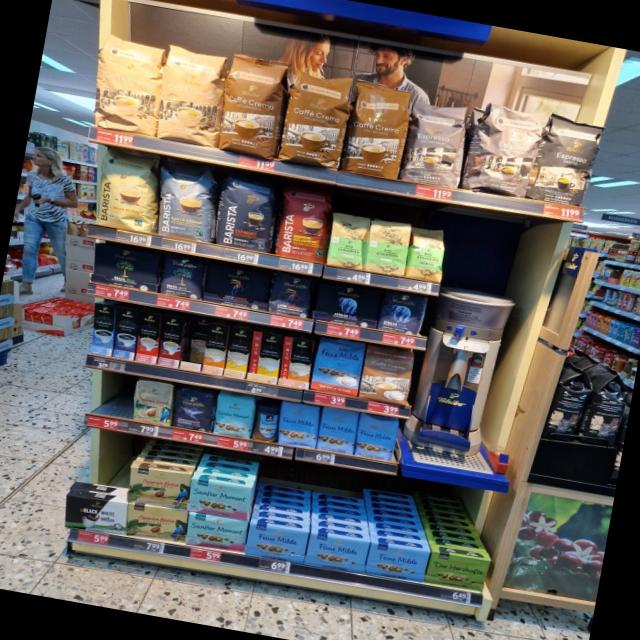AB Bohne: (376, 289, 431, 338)
AB Gemahlen: (311, 279, 384, 329)
Athiopien Bohne: (405, 225, 448, 283)
Athiopien Gemahlen: (364, 218, 414, 278), (323, 213, 370, 272)
BM Bohne: (159, 251, 209, 299)
BM Gemahlen: (90, 241, 166, 293)
BW Gemahlen: (63, 493, 128, 535)
Barista CB: (92, 147, 165, 235)
Barista CC: (153, 162, 223, 244)
Barista Espresso: (212, 173, 284, 256)
Barista Kolumbien: (272, 184, 336, 264)
C Fino Bohne: (169, 383, 218, 433)
CC Mild: (89, 33, 169, 138), (155, 42, 232, 149)
CC Vollmundig: (356, 344, 418, 407)
CC Vollmundig 36 Pads: (273, 64, 358, 172), (216, 51, 296, 162), (339, 77, 417, 181)
Colombia BB Bohne: (128, 377, 176, 426)
Colombia BB Gemahlen: (125, 466, 193, 510), (125, 502, 190, 542)
Empty Shelf: (86, 370, 136, 419)
Espresso Aromatisch: (460, 97, 546, 201), (398, 98, 471, 192)
Espresso Kraftig: (522, 110, 611, 207)
FM 36 Pads: (308, 335, 368, 398)
FM Bohne: (352, 413, 404, 462), (275, 400, 322, 449), (316, 406, 362, 456)
FM Gemahlen: (304, 531, 372, 574), (363, 542, 432, 583), (243, 523, 310, 563)
FM Instant: (249, 406, 281, 443)
Herzhatfe Mundig: (424, 550, 493, 593)
LG Bohne: (266, 270, 318, 318)
LG Gemahlen: (201, 257, 273, 311)
SM Bohne: (212, 393, 256, 440)
SM Gemahlen: (187, 476, 253, 520), (184, 512, 249, 552)
Simo CCMild: (247, 330, 285, 385)
Simo CCMild bigpack: (223, 326, 253, 379)
Simo CCVollmundig: (278, 335, 316, 390)
Simo CCVollmundig bigpack: (202, 323, 231, 375)
Simo Es Brazil: (134, 310, 162, 365)
Simo Es Caramel: (157, 313, 188, 366)
Simo Es Kraft: (111, 305, 140, 361)
Simo Es Vanilla: (88, 302, 117, 357)
